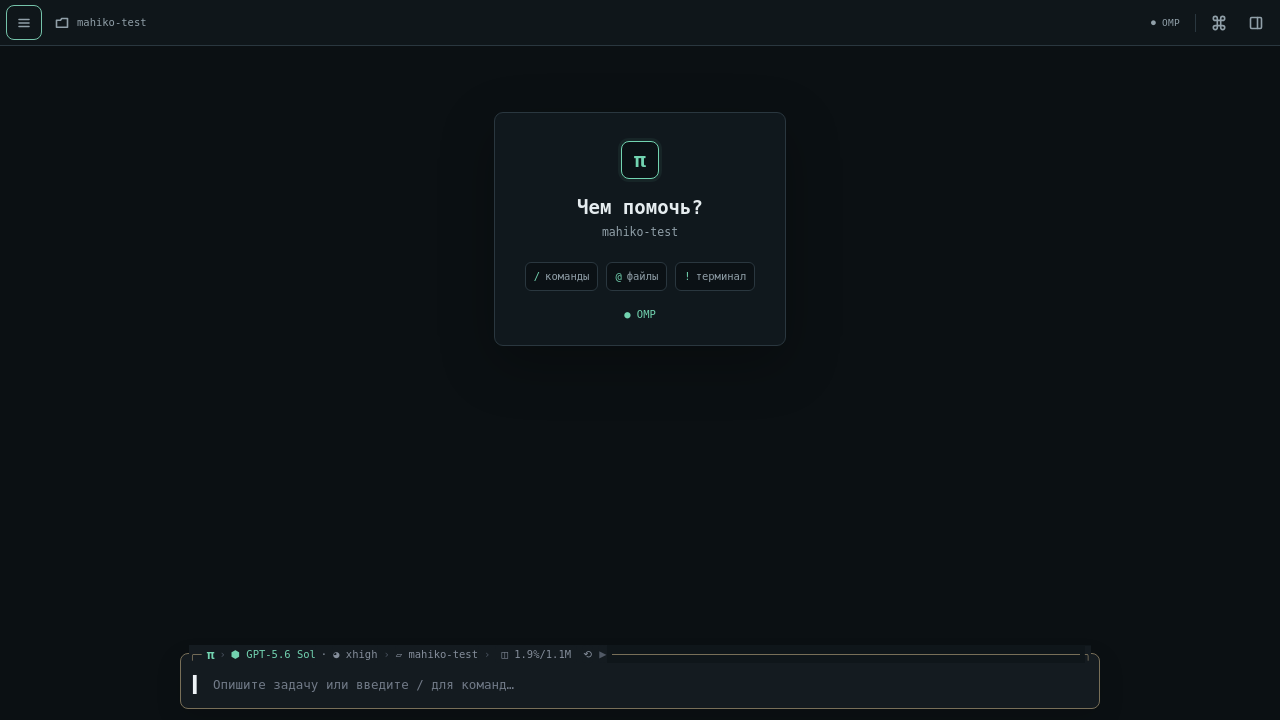
оболочка mahiko › не дублирует Working в composer и Esc вызывает настоящий cancel
This screenshot has width=1280, height=720.
In the field named "Сообщение mahiko": {"x": 649, "y": 685} 211,675 -> 1087,695, type "Проверка отмены"
Then press Enter
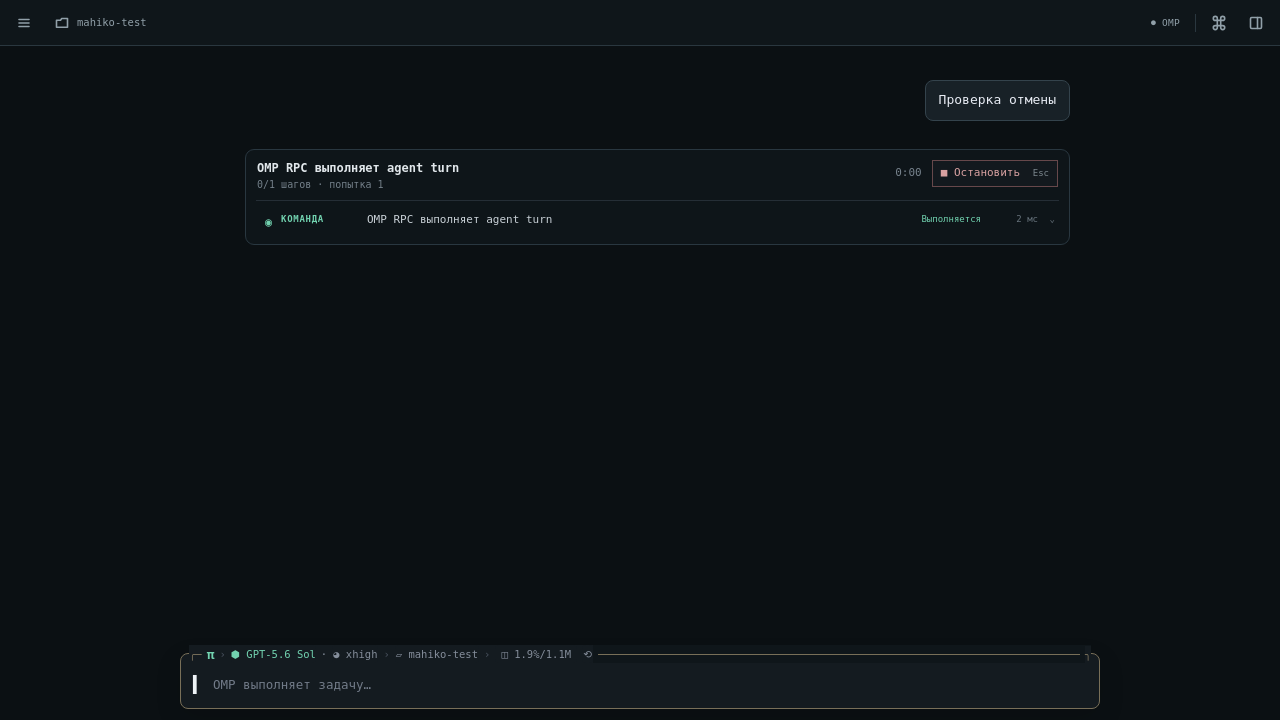
Result: the button "■ Остановить Esc" is shown at 932,160 -> 1058,187
Press Escape
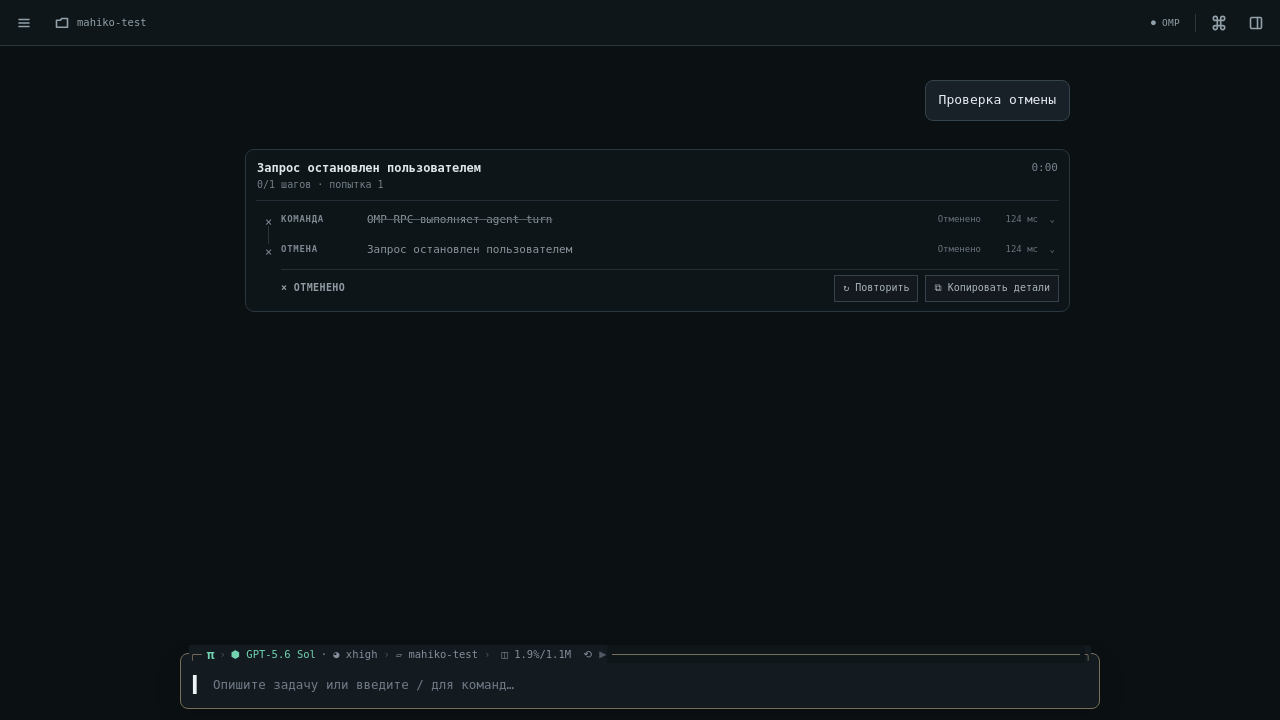
Result: the button "Остановить" is gone
Result: the text "Запрос остановлен пользователем" next to "0:00" is shown at 257,161 -> 481,175
